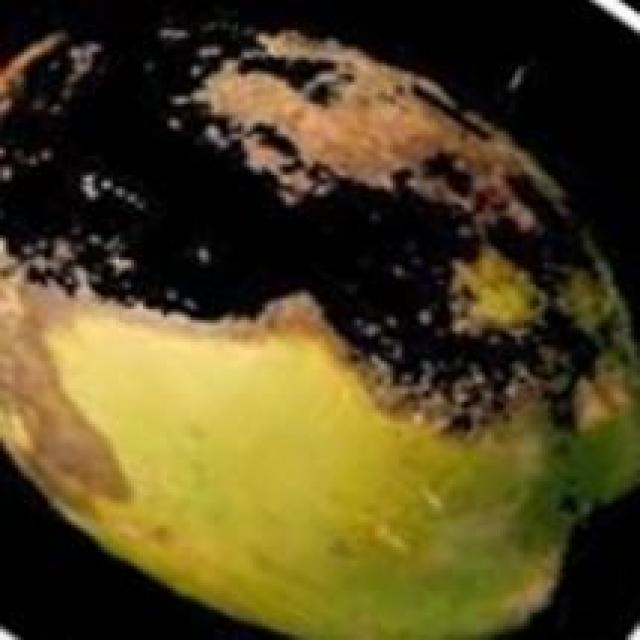damaged: (0, 27, 637, 637)
